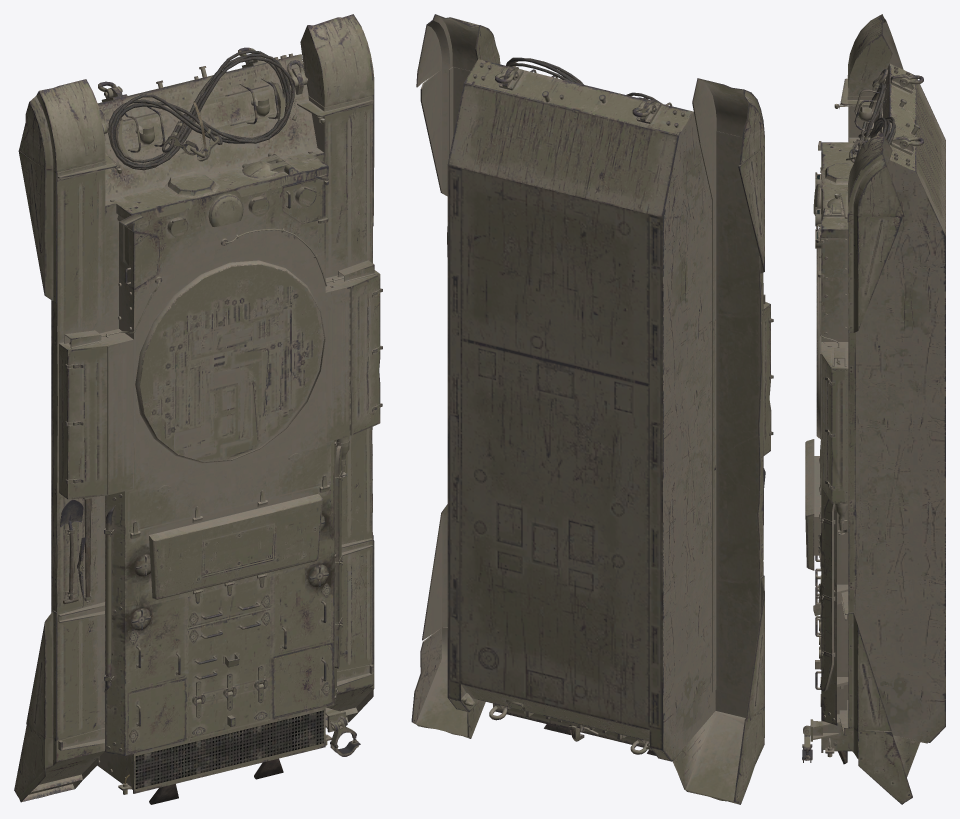
File: Hull.glb
3 renders of one model, left to right at view 1: azimuth 30°, elevation 25°; view 2: azimuth 150°, elevation 25°; view 3: azimuth 270°, elevation 25°, orthographic. The views are drawn at different scales.
Visible parts, largest first — view 1: set_0_group_0; view 2: set_0_group_0; view 3: set_0_group_0.
Boxes of the visible parts, bbox=[...] form: set_0_group_0: bbox=[14, 14, 382, 804]; set_0_group_0: bbox=[411, 14, 773, 804]; set_0_group_0: bbox=[802, 14, 945, 804].
Size of the model in its own units: 3.07 by 6.38 by 1.27.
Materials: 1 (1 with a texture image).
